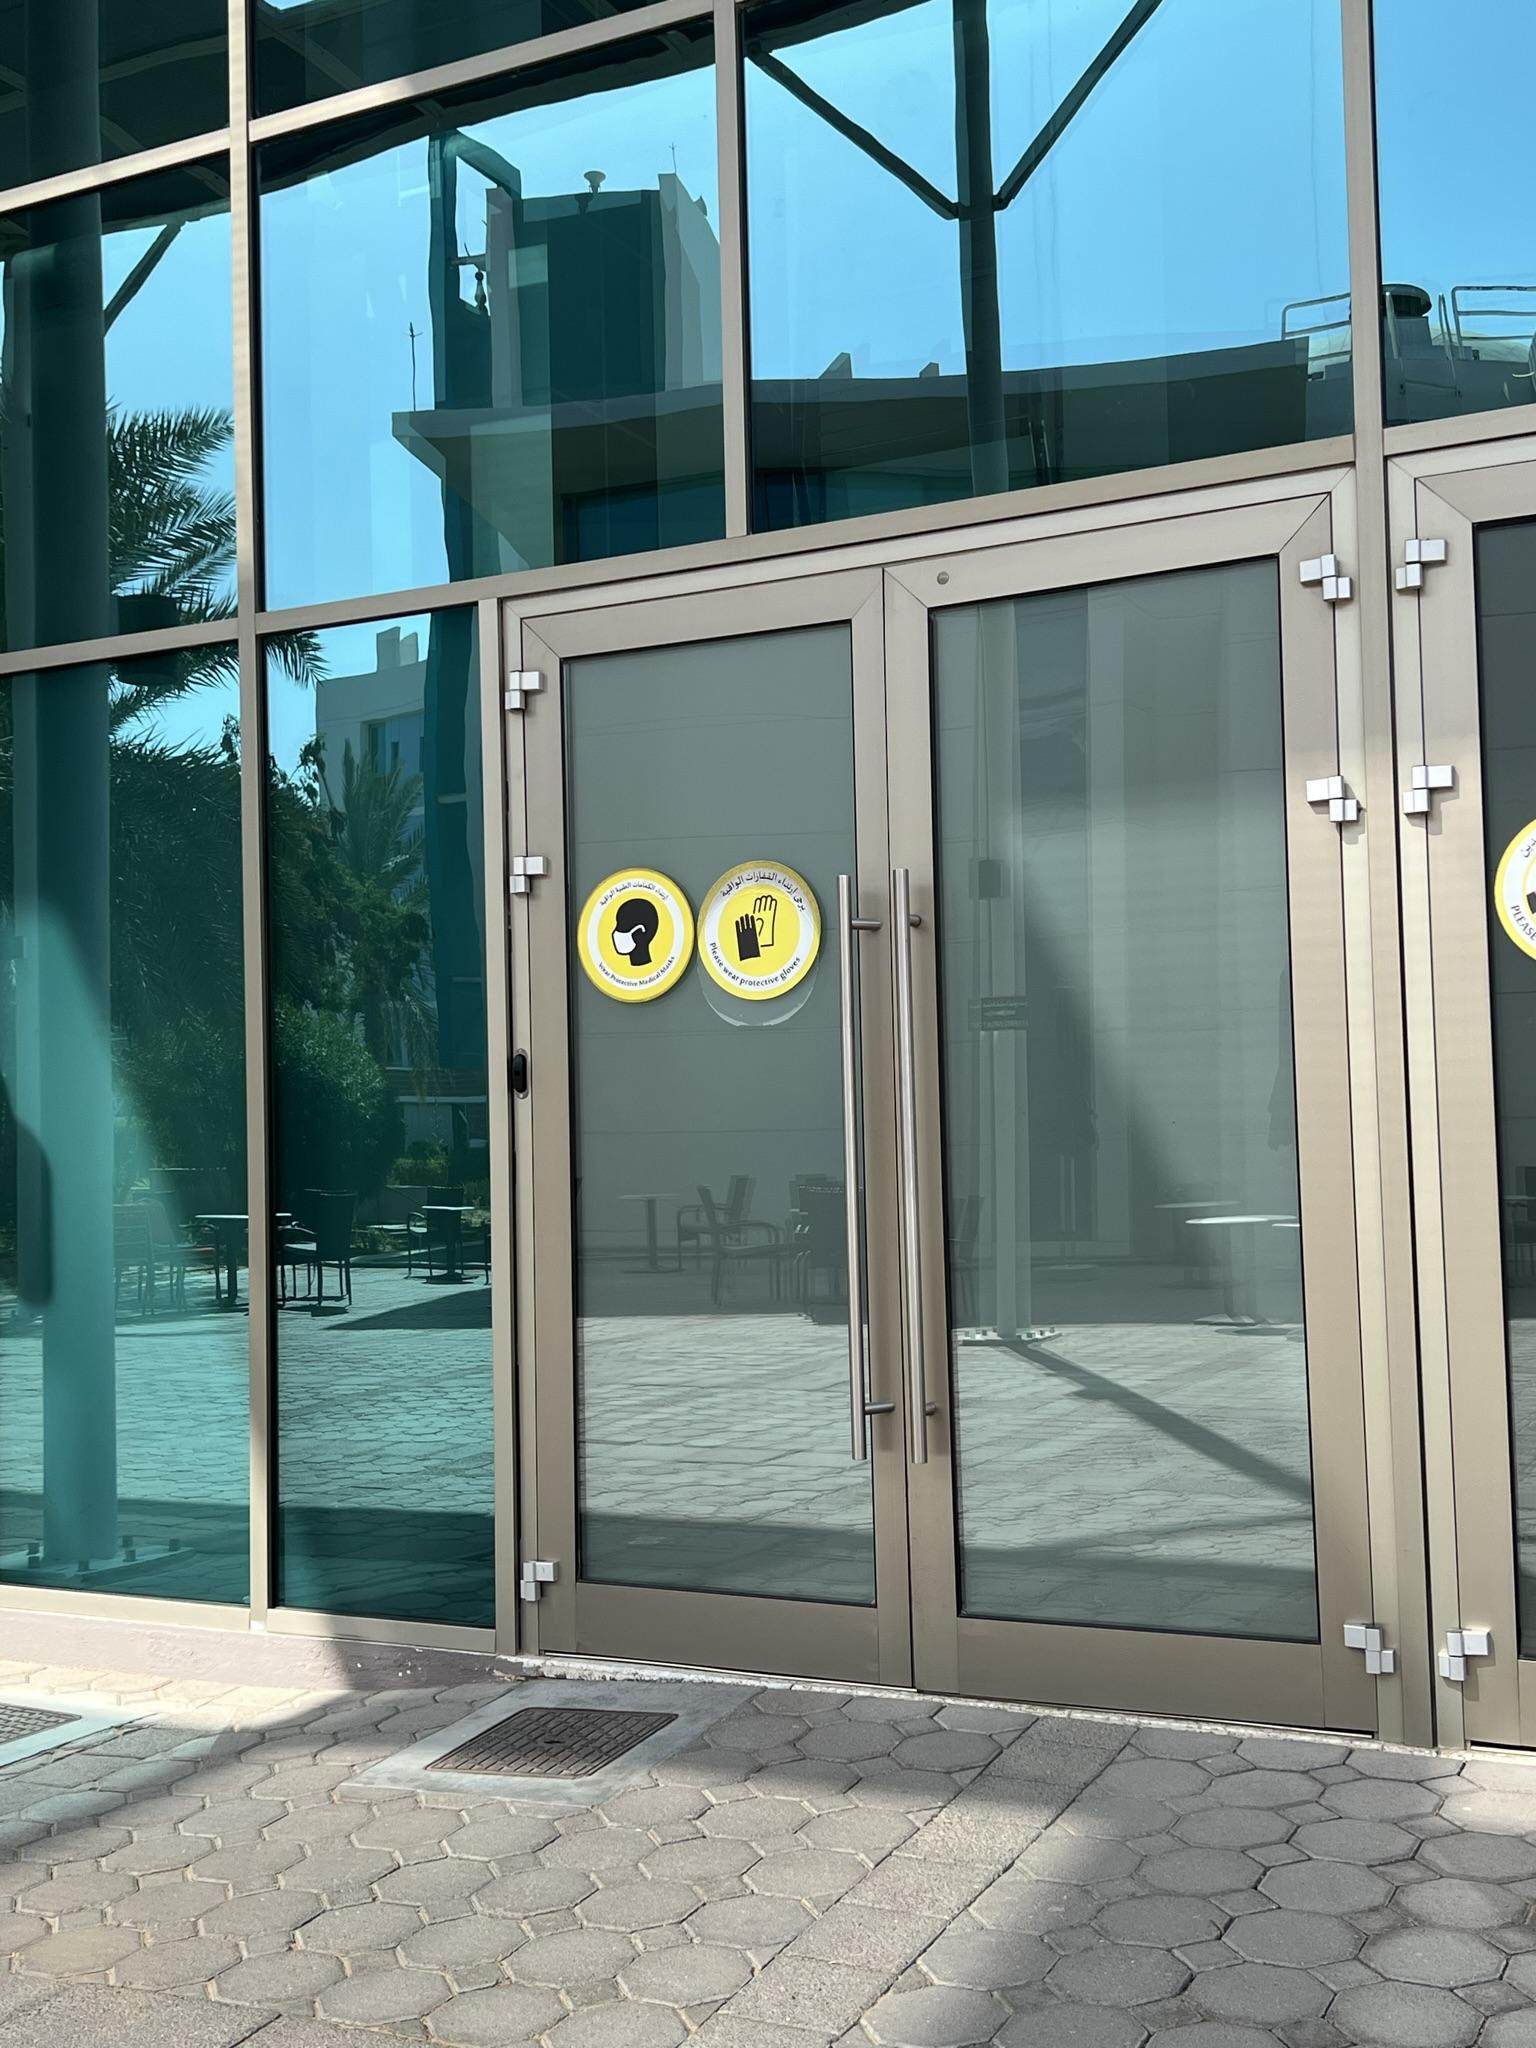door: (902, 547, 1346, 1706), (532, 606, 908, 1658)
handle: (828, 866, 904, 1463), (891, 861, 954, 1466)
